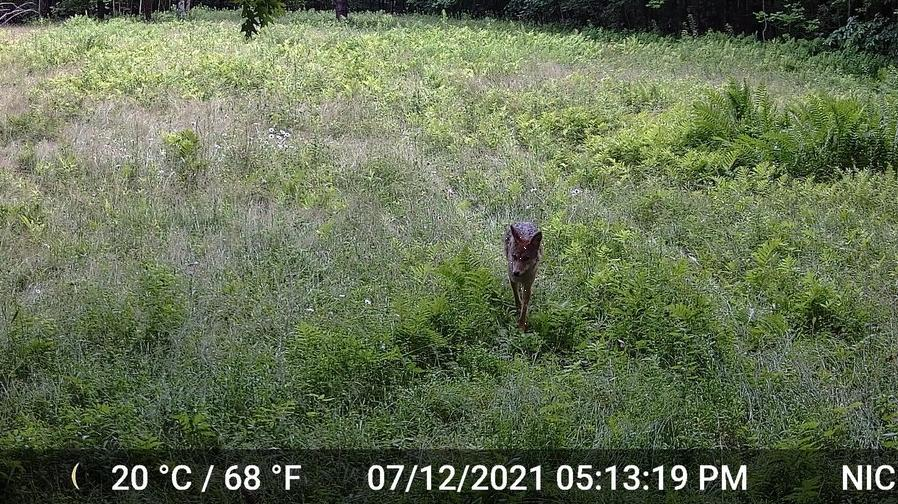Coyote: (502, 217, 547, 329)
